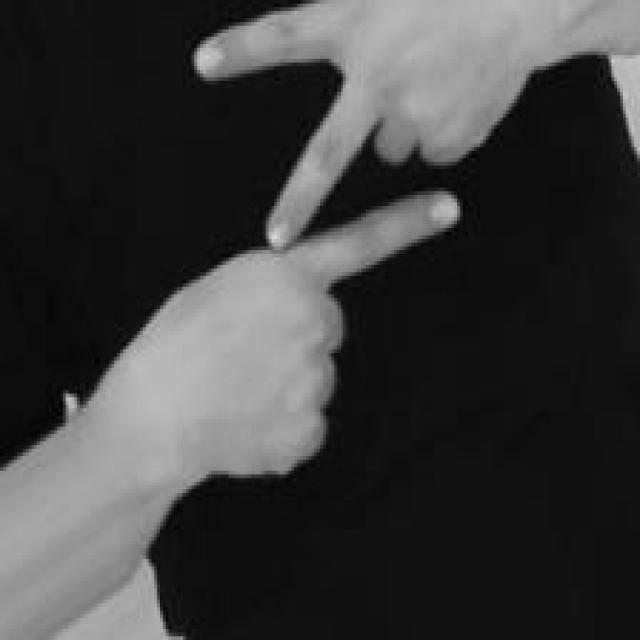Z: (131, 0, 640, 486)
